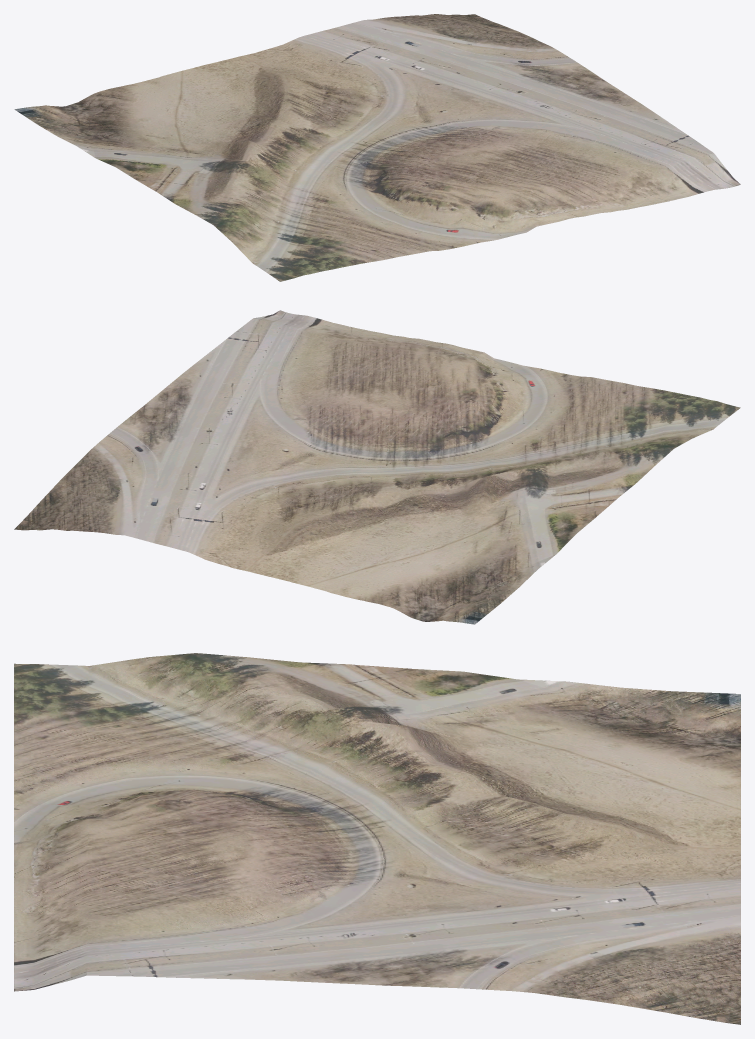
File: CM_Terrain_24491278_6817951.fbx
3 views of the same model, one above another, from view 1: azimuth 30°, elevation 25°; view 2: azimuth 150°, elevation 25°; view 3: azimuth 270°, elevation 25° (orthographic). The views are drawn at different scales.
Parts seen in each view (by area): view 1: CM_Terrain_24491278_6817951_LOD0; view 2: CM_Terrain_24491278_6817951_LOD0; view 3: CM_Terrain_24491278_6817951_LOD0.
Boxes of the visible parts, x1,y1,x2,y2 form: CM_Terrain_24491278_6817951_LOD0: (14, 14, 740, 281); CM_Terrain_24491278_6817951_LOD0: (14, 310, 740, 624); CM_Terrain_24491278_6817951_LOD0: (14, 653, 740, 1024).
Size of what is drawn, in the model's own units: 205 by 20.55 by 205.
